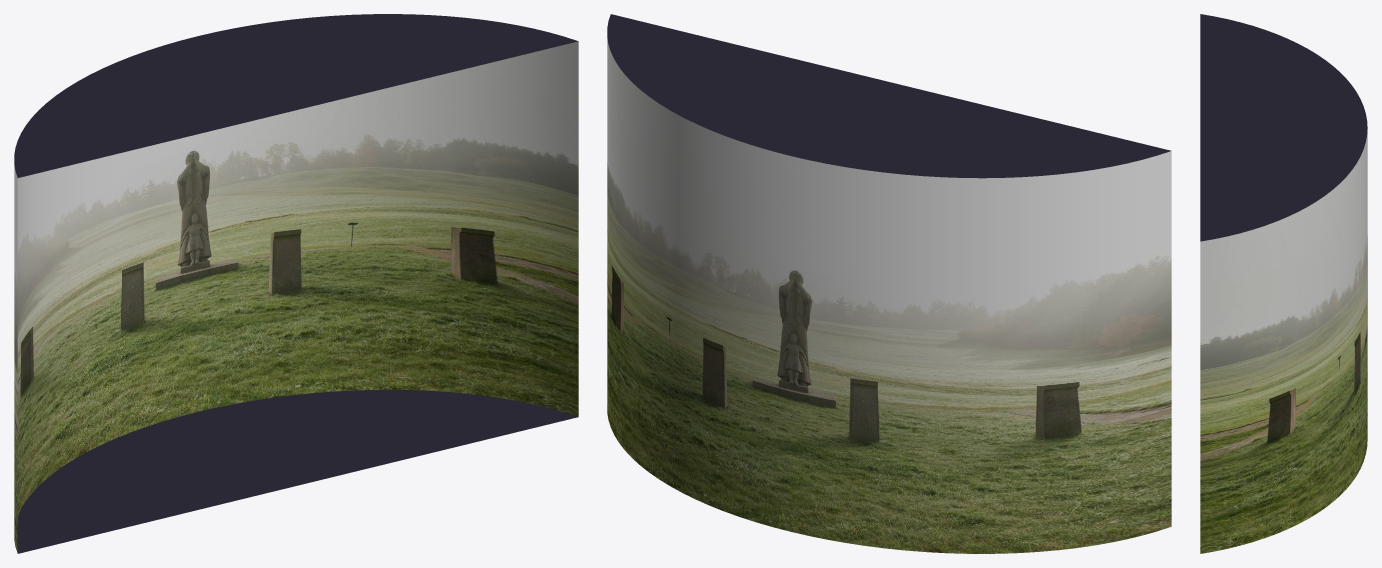
File: mahnmal.glb
3 renders of one model, left to right at view 1: azimuth 30°, elevation 25°; view 2: azimuth 150°, elevation 25°; view 3: azimuth 270°, elevation 25°, orthographic. The views are drawn at different scales.
Visible parts, largest first — view 1: root; view 2: root; view 3: root.
Boxes of the visible parts, x1=… form: root: x1=14, y1=14, x2=578, y2=553; root: x1=607, y1=14, x2=1171, y2=553; root: x1=1200, y1=14, x2=1367, y2=553.
Size of the model in its own units: 4.87 by 3.12 by 1.51.
Materials: 2 (1 with a texture image).
